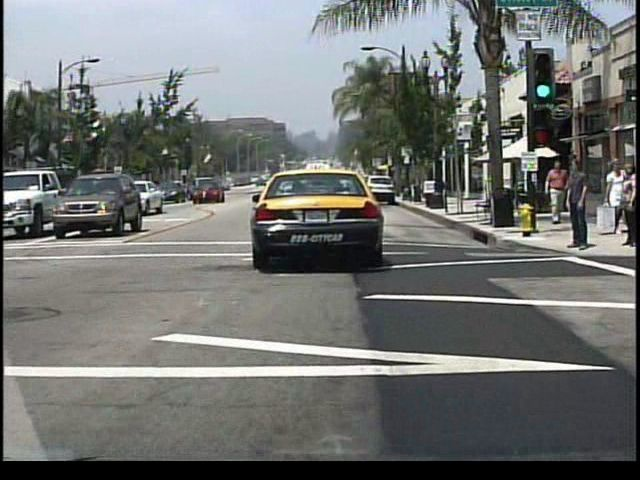person: (569, 156, 592, 252), (548, 162, 570, 223), (604, 156, 625, 212)
